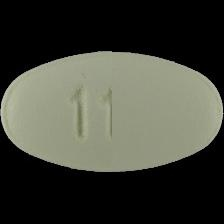13668-116: (0, 0, 224, 224)
